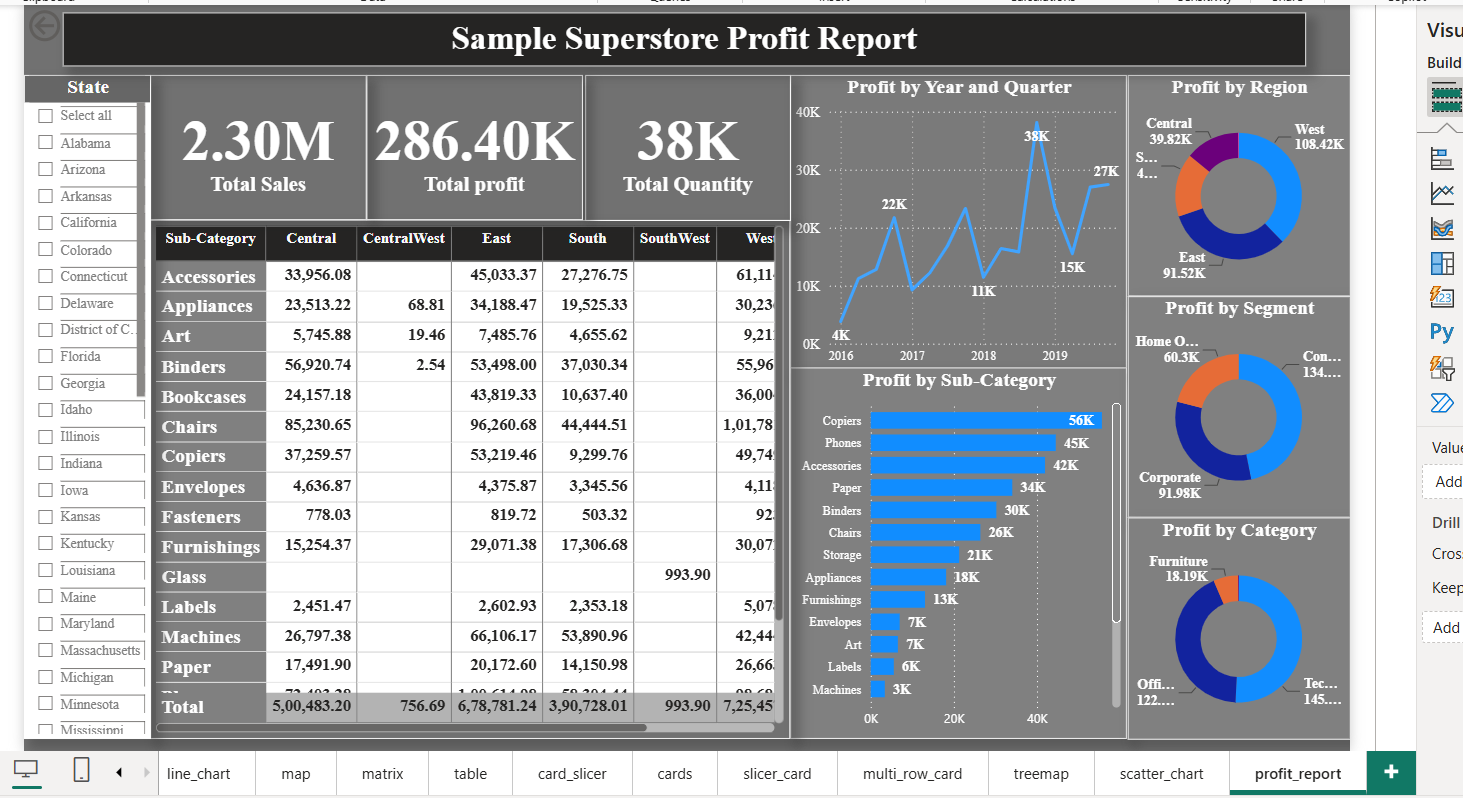

This screenshot's page, from the dashboard's own definition file:
{"tool":"powerbi","page":{"name":"profit_report","canvas":[1280,720],"ordinal":15},"visuals":[{"type":"actionButton","box":[0,0,100,40],"z":0},{"type":"card","fields":{"Values":["Orders.Total Sales"]},"box":[122.4,67.9,209.1,139.8],"z":0,"group":"g3"},{"type":"donutChart","title":" Profit by Region","fields":{"Category":["Orders.Region"],"Y":["Sum(Orders.Profit)"]},"box":[1065.3,67.9,214.8,213.7],"z":0,"group":"g2"},{"type":"group","id":"g1","title":"Group 3","box":[122.4,67.9,942.9,641.2],"z":1000},{"type":"lineChart","title":" Profit by Year and Quarter","fields":{"Category":["Orders.Order Date.Variation.Date Hierarchy.Year","Orders.Order Date.Variation.Date Hierarchy.Quarter"],"Y":["Orders.Total profit"]},"box":[739.9,67.9,325.2,287.7],"z":1000,"group":"g1"},{"type":"card","fields":{"Values":["Orders.Total Quantity"]},"box":[541.8,68.1,198.5,140.5],"z":1000,"group":"g3"},{"type":"donutChart","title":" Profit by Segment","fields":{"Y":["Sum(Orders.Profit)"],"Category":["Orders.Segment"]},"box":[1065.3,281.6,214.8,213.7],"z":1000,"group":"g2"},{"type":"card","fields":{"Values":["Orders.Total profit"]},"box":[331.5,67.9,209.1,139.8],"z":2000,"group":"g3"},{"type":"group","id":"g2","title":"Group 4","box":[1065.3,67.9,214.8,641.2],"z":2000},{"type":"pivotTable","fields":{"Rows":["Orders.Sub-Category"],"Columns":["Orders.Region"],"Values":["Sum(Orders.Sales)"]},"box":[122.4,208.4,617.5,500.4],"z":2000,"group":"g4"},{"type":"donutChart","title":" Profit by Category","fields":{"Y":["Sum(Orders.Profit)"],"Category":["Orders.Category"]},"box":[1065.3,494.5,214.8,214.6],"z":2000,"group":"g2"},{"type":"slicer","title":"State","fields":{"Values":["Orders.State"]},"box":[0,67.9,122.4,641.2],"z":2001},{"type":"textbox","box":[37.8,7.8,1200,52.3],"z":2002},{"type":"clusteredBarChart","title":"Profit by Sub-Category","fields":{"Category":["Orders.Sub-Category"],"Y":["Orders.Total profit"]},"box":[739.9,350.2,325.2,358.6],"z":3000,"group":"g1"},{"type":"group","id":"g3","title":"Group 1","box":[122.4,67.9,617.5,140.5],"z":4000,"group":"g4"},{"type":"group","id":"g4","title":"Group 2","box":[122.4,67.9,617.5,640.9],"z":4001,"group":"g1"}]}

Visuals, with their boxes on the page's 1280x720 design canvas (x1, y1, x2, y2). These are canvas units, not pixel positions in the 1463x798 screenshot, which may show the page scaled, cropped or inside an application window:
actionButton: {"left": 0, "top": 0, "right": 100, "bottom": 40}
card - Orders.Total Sales: {"left": 122, "top": 68, "right": 332, "bottom": 208}
" Profit by Region" donutChart: {"left": 1065, "top": 68, "right": 1280, "bottom": 282}
"Group 3" group: {"left": 122, "top": 68, "right": 1065, "bottom": 709}
" Profit by Year and Quarter" lineChart: {"left": 740, "top": 68, "right": 1065, "bottom": 356}
card - Orders.Total Quantity: {"left": 542, "top": 68, "right": 740, "bottom": 209}
" Profit by Segment" donutChart: {"left": 1065, "top": 282, "right": 1280, "bottom": 495}
card - Orders.Total profit: {"left": 332, "top": 68, "right": 541, "bottom": 208}
"Group 4" group: {"left": 1065, "top": 68, "right": 1280, "bottom": 709}
pivotTable - Orders.Sub-Category x Orders.Region: {"left": 122, "top": 208, "right": 740, "bottom": 709}
" Profit by Category" donutChart: {"left": 1065, "top": 494, "right": 1280, "bottom": 709}
"State" slicer: {"left": 0, "top": 68, "right": 122, "bottom": 709}
textbox: {"left": 38, "top": 8, "right": 1238, "bottom": 60}
"Profit by Sub-Category" clusteredBarChart: {"left": 740, "top": 350, "right": 1065, "bottom": 709}
"Group 1" group: {"left": 122, "top": 68, "right": 740, "bottom": 208}
"Group 2" group: {"left": 122, "top": 68, "right": 740, "bottom": 709}
